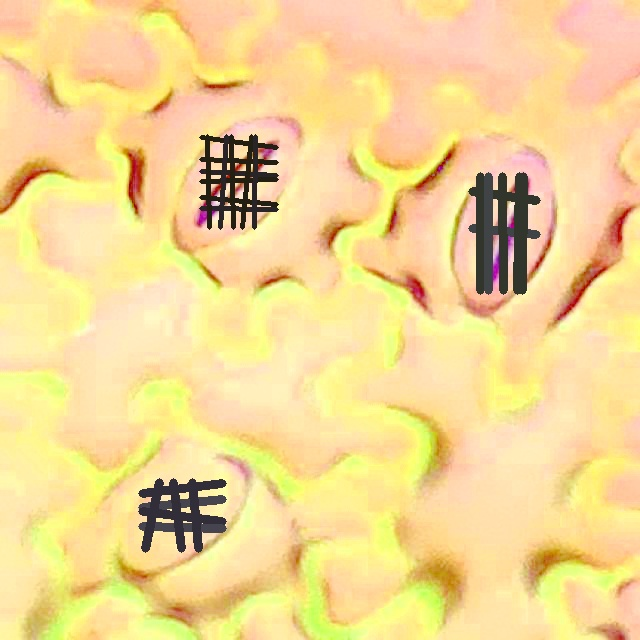close: (138, 479, 225, 551)
open: (468, 173, 539, 293), (199, 134, 278, 229)
